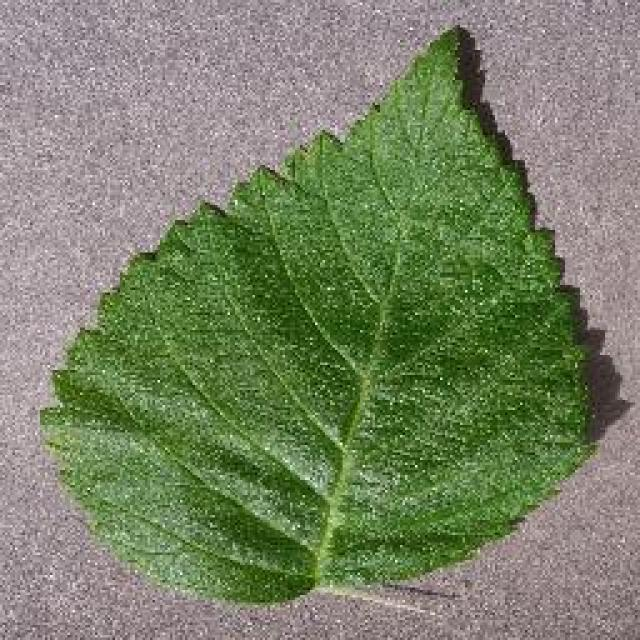Ras_healthy: (85, 109, 590, 554)
